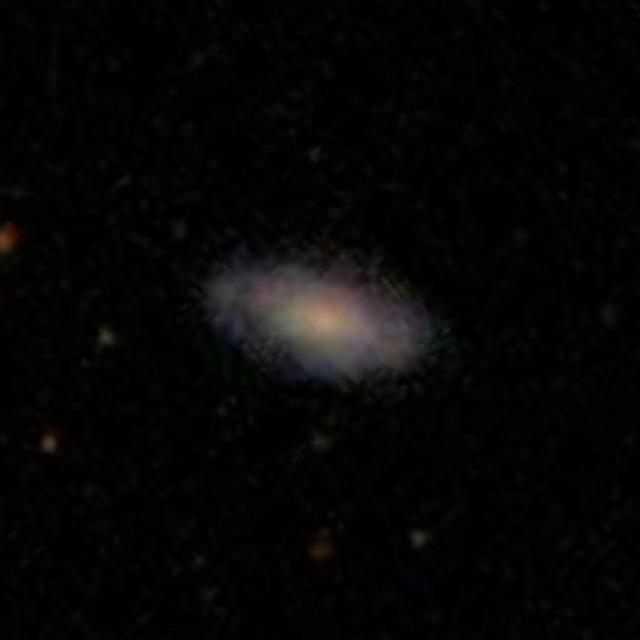galaxy: (192, 229, 451, 394), (88, 322, 119, 351), (1, 218, 21, 260), (34, 431, 62, 457), (407, 526, 431, 554)
